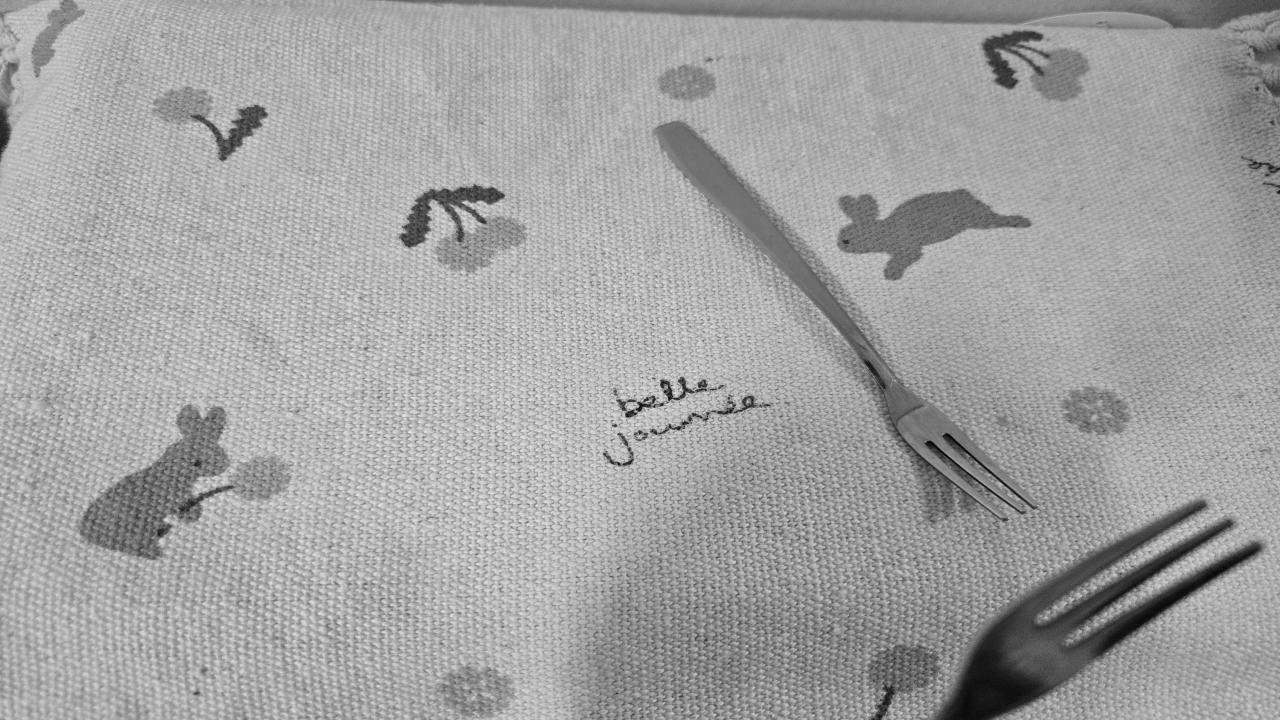fork: (655, 116, 1037, 522), (925, 503, 1263, 720)
